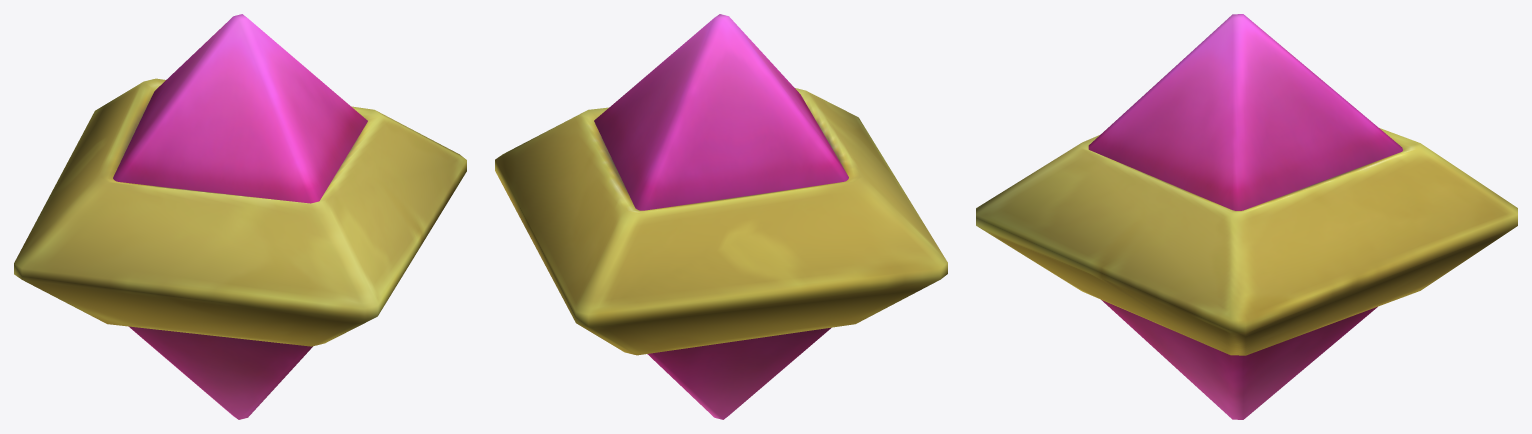
Rendered from SM_TowerDefense_Arcane_ManaCrystal.fbx.
3 renders of one model, left to right at view 1: azimuth 30°, elevation 25°; view 2: azimuth 150°, elevation 25°; view 3: azimuth 270°, elevation 25°, orthographic.
Parts seen in each view (by area): view 1: SM_TowerDefense_Arcane_ManaCrystal; view 2: SM_TowerDefense_Arcane_ManaCrystal; view 3: SM_TowerDefense_Arcane_ManaCrystal.
Boxes of the visible parts, x1,y1,x2,y2 form: SM_TowerDefense_Arcane_ManaCrystal: [14, 14, 466, 419]; SM_TowerDefense_Arcane_ManaCrystal: [495, 14, 947, 419]; SM_TowerDefense_Arcane_ManaCrystal: [976, 14, 1517, 419].
Size of the model in its own units: 237 by 203 by 248.
